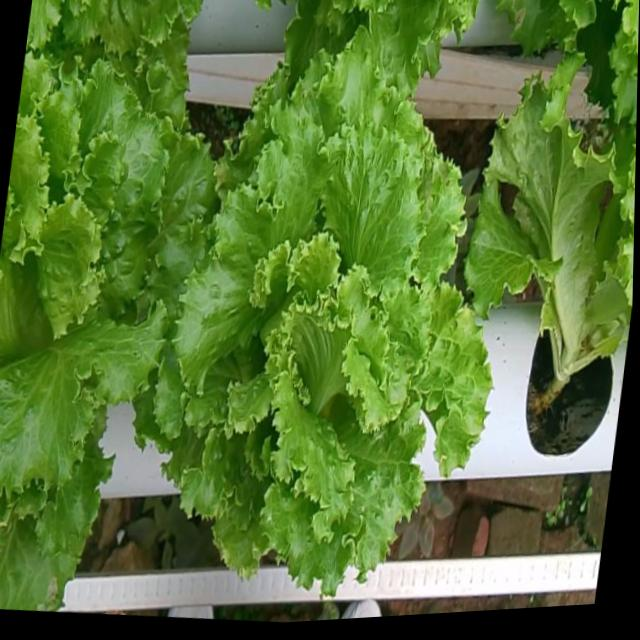Mature: (143, 61, 482, 603), (0, 70, 206, 512)
